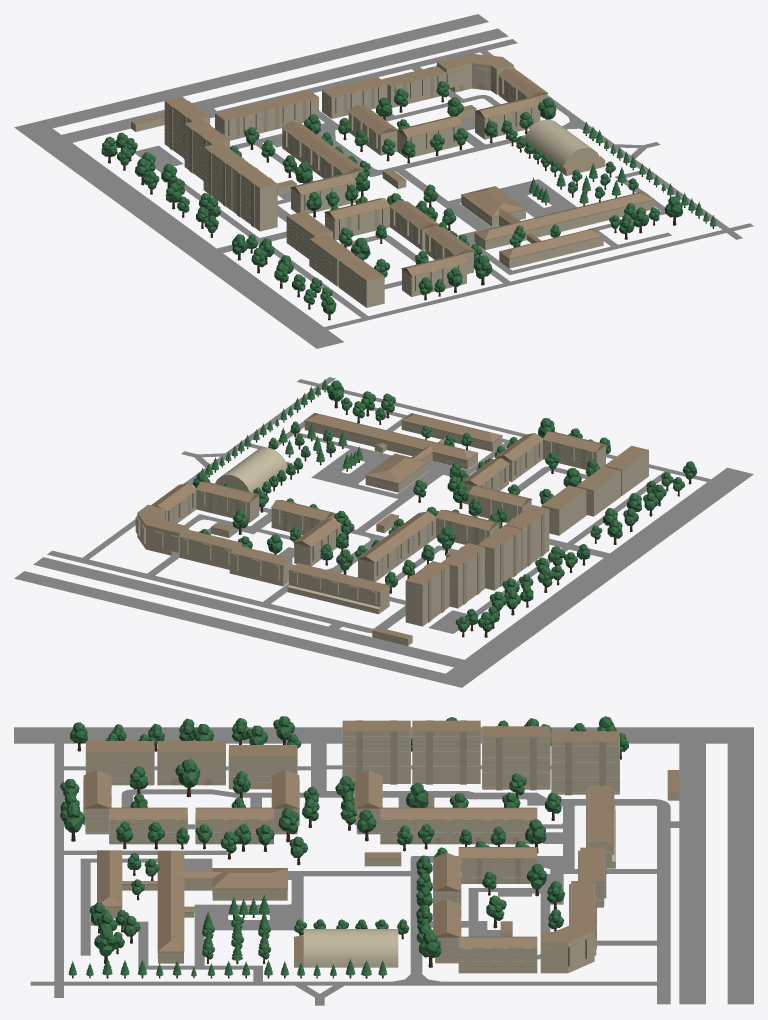
The model's file is map_with_trees_and_road.fbx.
The picture shows the model from 3 angles, top to bottom: view 1: azimuth 30°, elevation 25°; view 2: azimuth 150°, elevation 25°; view 3: azimuth 270°, elevation 25°; orthographic projection. The views are drawn at different scales.
Visible parts, largest first — view 1: roads1, trees, school_42, h24, h27_1, h16A, football, h30, h29_2, h23, h27_2, h19 (+14 smaller); view 2: roads1, trees, school_42, h24, h25, h26, h27_2, h23, football, h18, h16A, h27_1 (+14 smaller); view 3: roads1, trees, school_42, h27_2, h26, h25, h27_1, football, h17, h16A, h29_1, h20 (+15 smaller).
Boxes of the visible parts, <box> form: roads1: <box>14,14,753,348</box>; trees: <box>101,81,716,320</box>; school_42: <box>461,186,654,268</box>; h24: <box>214,90,319,140</box>; h27_1: <box>232,163,277,231</box>; h16A: <box>436,53,515,94</box>; football: <box>524,119,599,172</box>; h30: <box>324,198,389,240</box>; h29_2: <box>338,256,384,307</box>; h23: <box>322,77,387,118</box>; h27_2: <box>203,142,248,210</box>; h19: <box>397,116,462,158</box>; roads1: <box>14,377,753,687</box>; trees: <box>192,379,696,637</box>; school_42: <box>304,413,502,492</box>; h24: <box>287,563,389,614</box>; h25: <box>405,561,449,626</box>; h26: <box>441,543,484,608</box>; h27_2: <box>478,525,521,589</box>; h23: <box>229,545,292,586</box>; football: <box>215,447,287,492</box>; h18: <box>196,481,259,522</box>; h16A: <box>135,504,189,555</box>; h27_1: <box>505,505,549,570</box>; roads1: <box>14,727,753,1005</box>; trees: <box>60,716,628,978</box>; school_42: <box>97,850,287,963</box>; h27_2: <box>412,720,480,784</box>; h26: <box>482,726,550,790</box>; h25: <box>551,731,619,795</box>; h27_1: <box>342,720,410,784</box>; football: <box>303,929,398,967</box>; h17: <box>458,936,537,973</box>; h16A: <box>540,909,596,973</box>; h29_1: <box>157,741,225,785</box>; h20: <box>458,847,537,883</box>.
Bounding box in the file's own units: 336 × 29.8 × 377.
